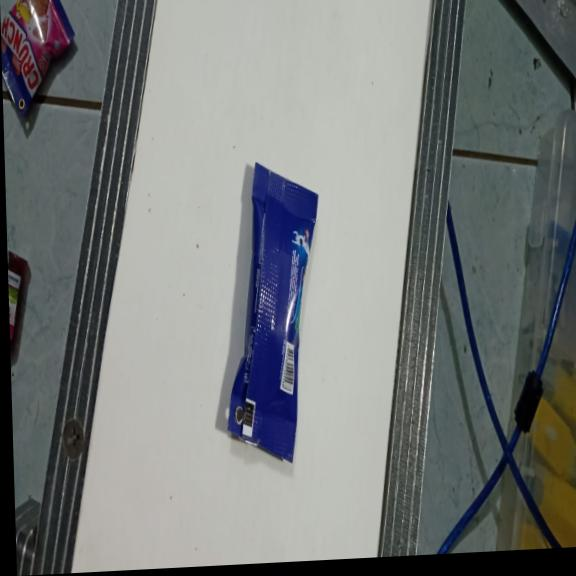Plastik: (218, 159, 329, 468), (0, 0, 79, 123)
